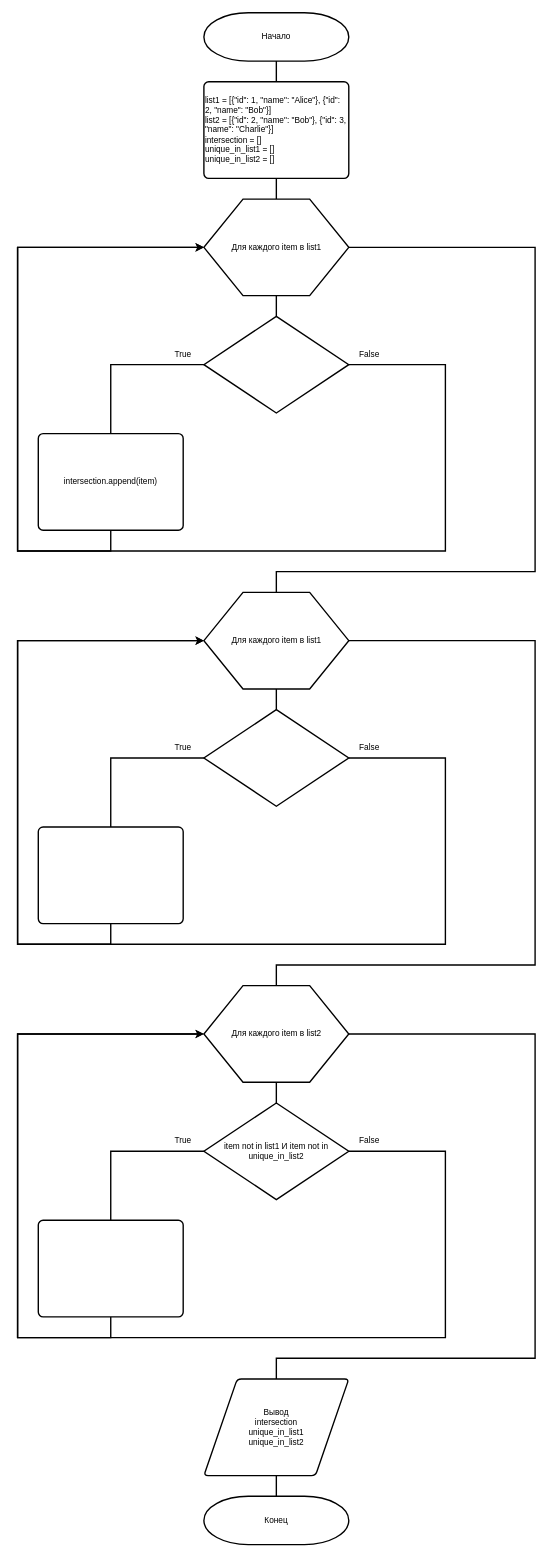
This 548x1557 diagram has some shape labels left out. Each missing label, with the centre of its shape:
item in list2 И item not in intersection: point (276, 364)
item not in list2 И item not in unique_in_list1: point (276, 758)
unique_in_list1.append(item): point (110, 875)
unique_in_list2.append(item): point (110, 1268)
